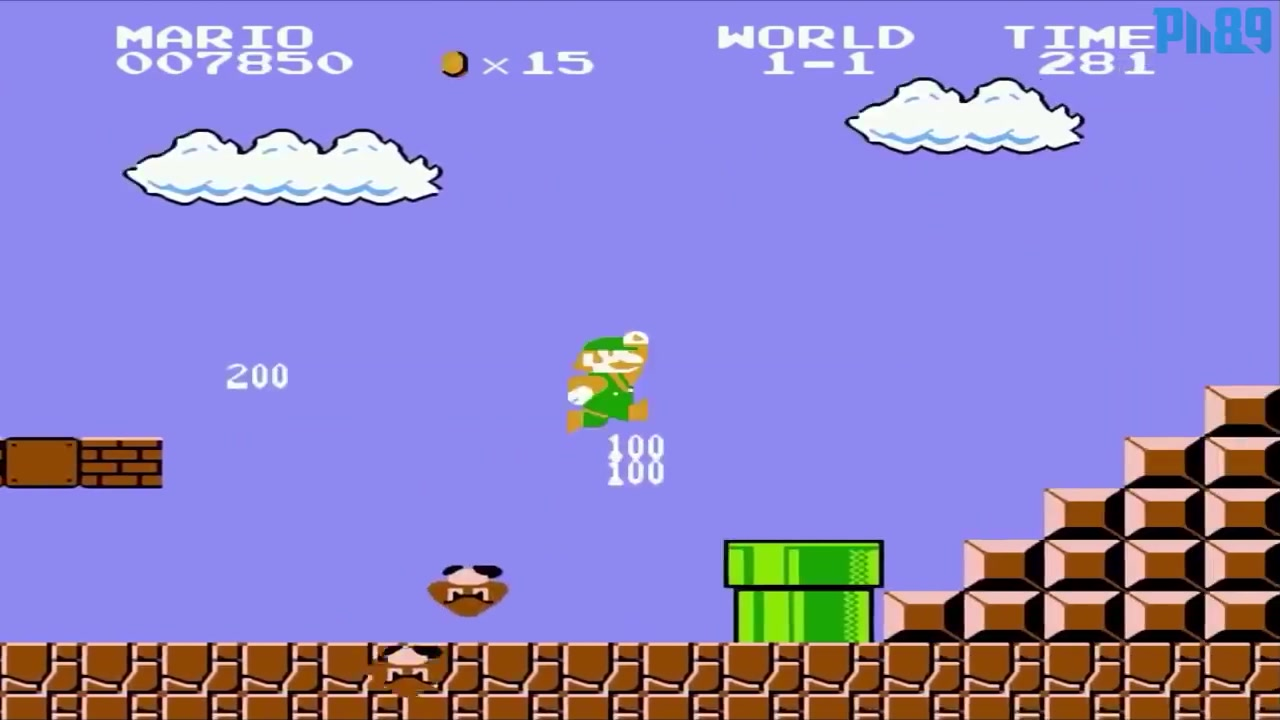mario: (550, 316, 666, 438)
